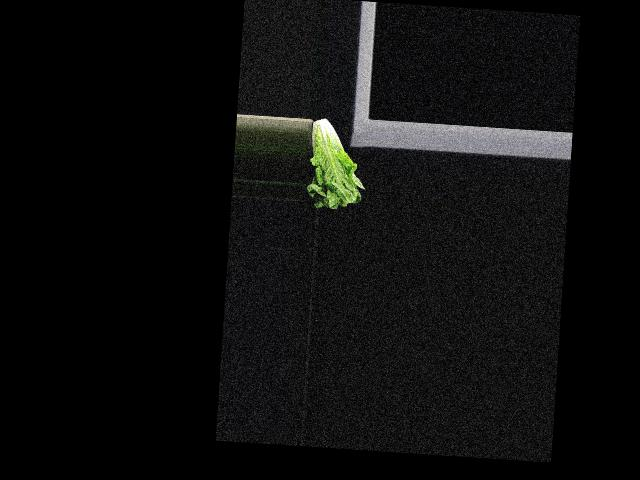lettuce: (305, 116, 368, 212)
